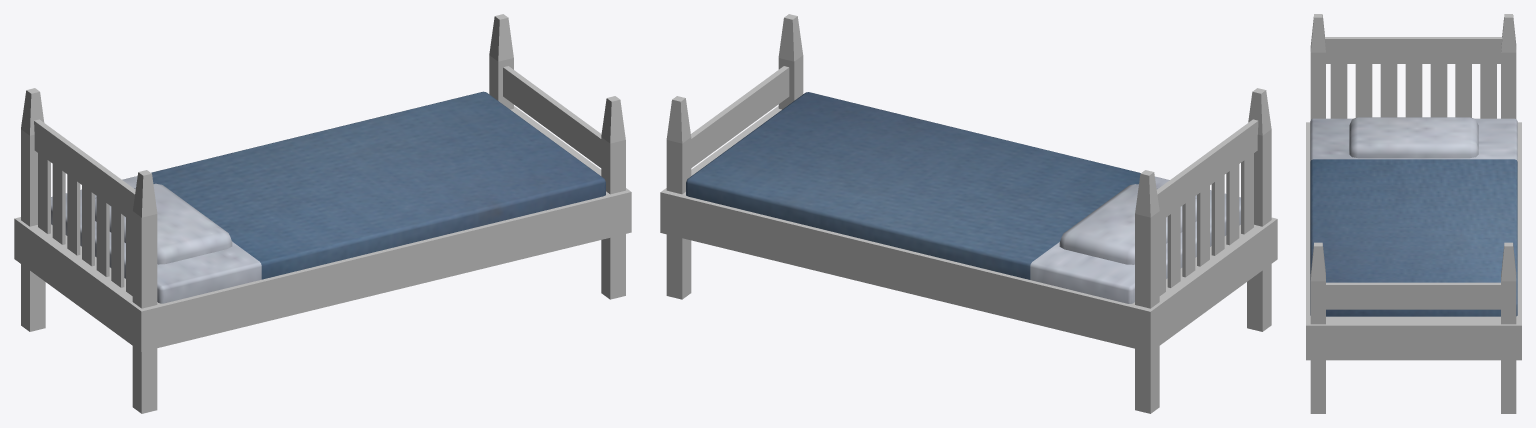
The model's file is MS_Bed_3.fbx.
The picture shows the model from 3 angles, left to right: view 1: azimuth 30°, elevation 25°; view 2: azimuth 150°, elevation 25°; view 3: azimuth 270°, elevation 25°; orthographic projection. The views are drawn at different scales.
Visible parts, largest first — view 1: MSH_Bed; view 2: MSH_Bed; view 3: MSH_Bed.
Boxes of the visible parts, bbox=[...] form: MSH_Bed: bbox=[14, 14, 631, 413]; MSH_Bed: bbox=[660, 14, 1277, 413]; MSH_Bed: bbox=[1306, 14, 1521, 413].
Bounding box in the file's own units: 200 × 91.8 × 89.58.
